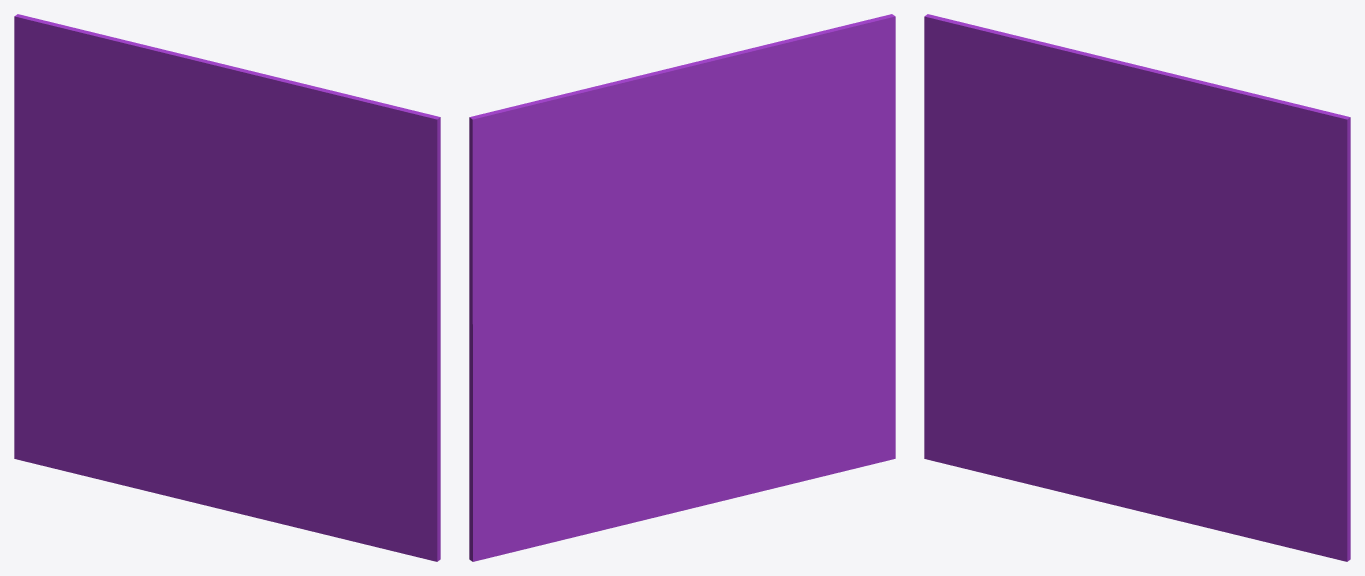
3 renders of one model, left to right at view 1: azimuth 90°, elevation 25°; view 2: azimuth 150°, elevation 25°; view 3: azimuth 270°, elevation 25°, orthographic.
Visible parts, largest first — view 1: Plano2_Cubo.006; view 2: Plano2_Cubo.006; view 3: Plano2_Cubo.006.
Part boxes in pixels (bbox=[...]): Plano2_Cubo.006: bbox=[14, 14, 440, 561]; Plano2_Cubo.006: bbox=[469, 14, 895, 561]; Plano2_Cubo.006: bbox=[924, 14, 1350, 561].
Size of the model in its own units: 0.8718 by 1.7 by 1.49.
